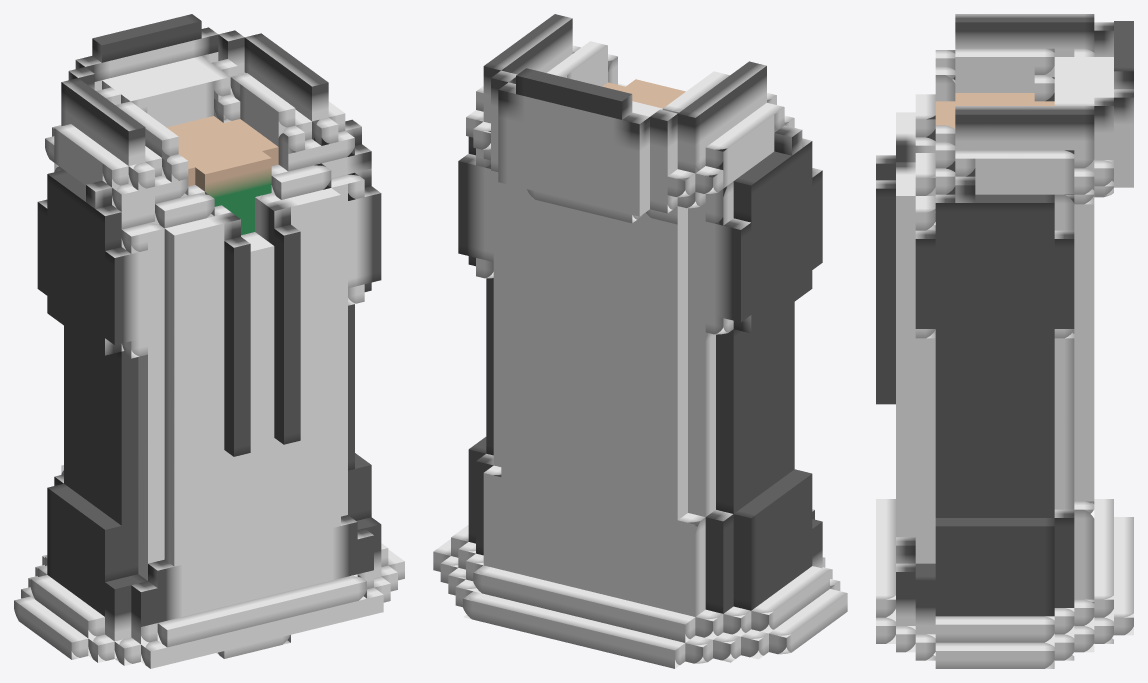
Rendered from tors_1.dae.
3 renders of one model, left to right at view 1: azimuth 30°, elevation 25°; view 2: azimuth 150°, elevation 25°; view 3: azimuth 270°, elevation 25°, orthographic. The views are drawn at different scales.
Parts seen in each view (by area): view 1: Content; view 2: Content; view 3: Content.
Boxes of the visible parts, <box> form: Content: <box>14,14,404,668</box>; Content: <box>433,14,847,668</box>; Content: <box>876,14,1133,668</box>.
Size of the model in its own units: 20 by 31 by 13.
Materials: 1 (1 with a texture image).
